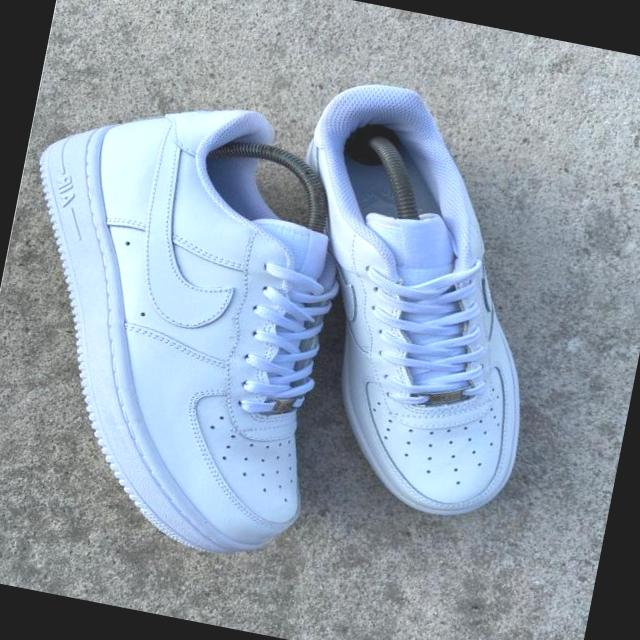nike_original_airforce: (0, 72, 394, 572), (246, 68, 588, 527)
